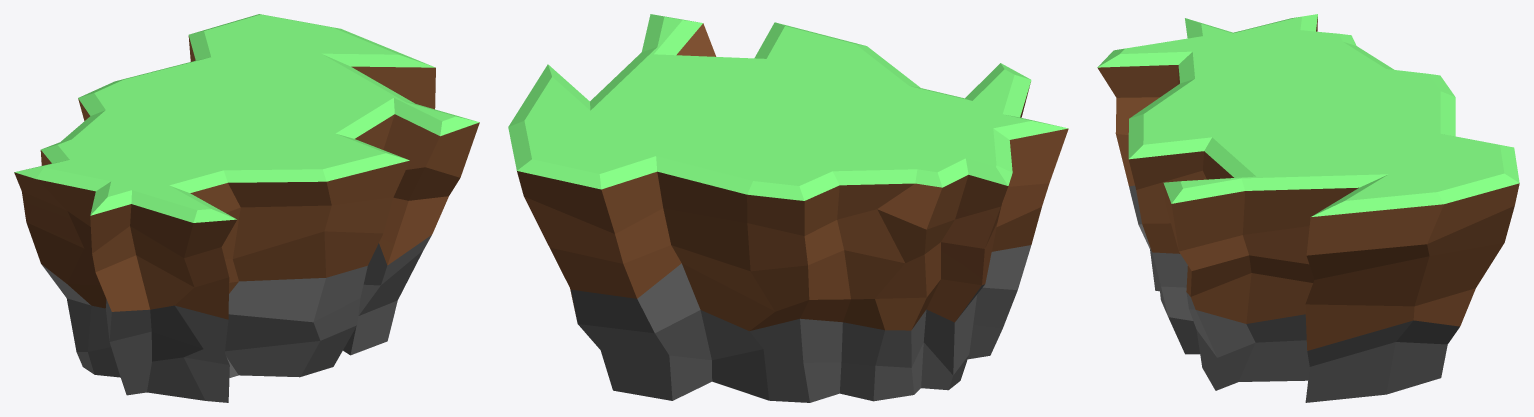
Rendered from LowPolyCliff.fbx.
3 renders of one model, left to right at view 1: azimuth 30°, elevation 25°; view 2: azimuth 150°, elevation 25°; view 3: azimuth 270°, elevation 25°, orthographic. The views are drawn at different scales.
Visible parts, largest first — view 1: Plane; view 2: Plane; view 3: Plane.
Part boxes in pixels (x1=…): Plane: x1=14, y1=14, x2=479, y2=402; Plane: x1=508, y1=14, x2=1068, y2=402; Plane: x1=1097, y1=14, x2=1519, y2=402.
Bounding box in the file's own units: 253 × 130 × 217.
